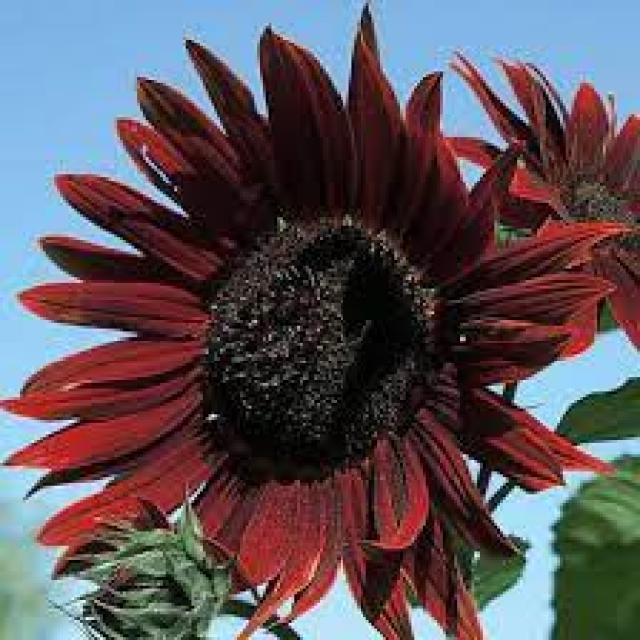sunflower: (0, 4, 629, 640), (425, 41, 640, 364)
